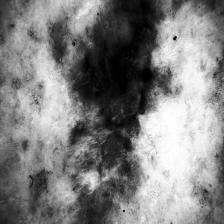Benign Marking or Mole: (41, 0, 182, 222)
